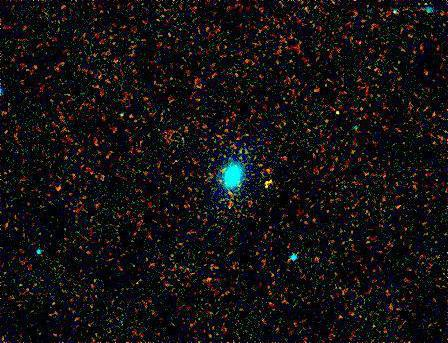star: (252, 170, 282, 200)
